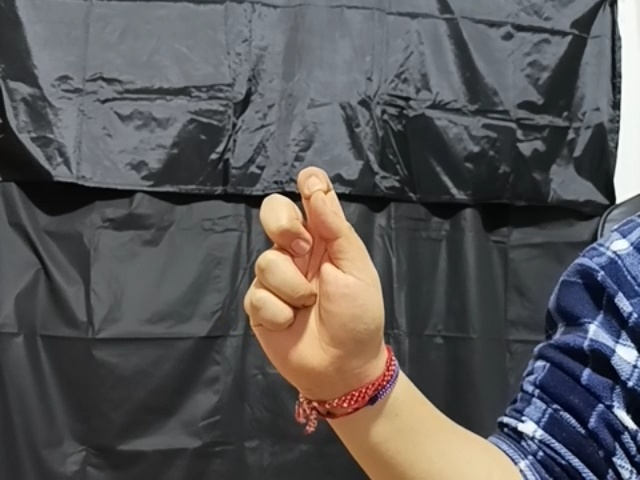T: (236, 162, 394, 368)
